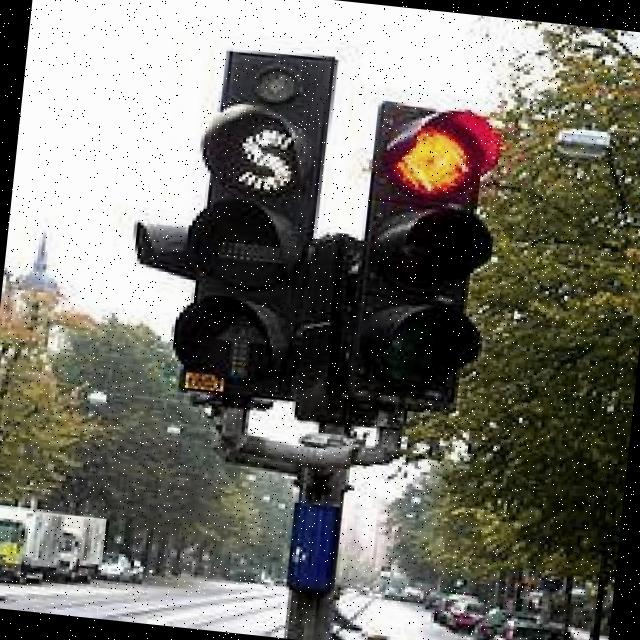Czerwone swiatlo: (347, 103, 496, 412)
